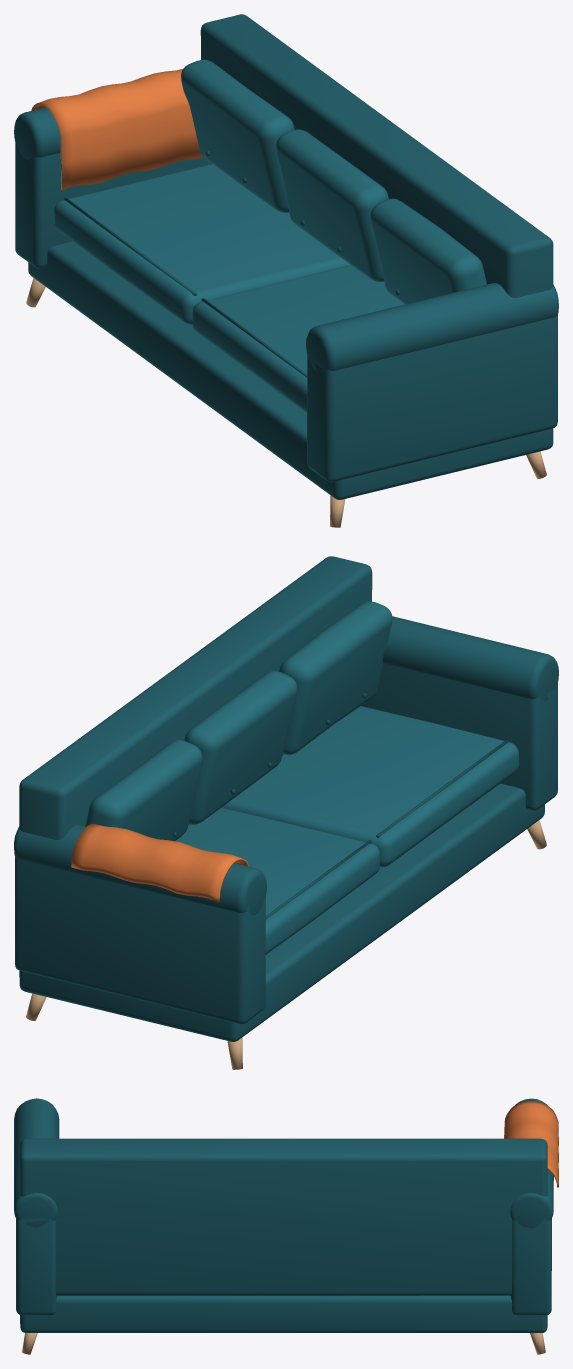
Rendered from living-sofa.glb.
3 renders of one model, top to bottom at view 1: azimuth 30°, elevation 25°; view 2: azimuth 150°, elevation 25°; view 3: azimuth 270°, elevation 25°, orthographic. The views are drawn at different scales.
Visible parts, largest first — view 1: Sofa__Frame, Sofa__SeatCushions, Sofa__BackCushions, Sofa__Throw, Sofa__Legs, Sofa__Piping; view 2: Sofa__Frame, Sofa__SeatCushions, Sofa__BackCushions, Sofa__Throw, Sofa__Legs, Sofa__Piping; view 3: Sofa__Frame, Sofa__Throw, Sofa__Legs.
Part boxes in pixels (x1,y1,x2,y2): Sofa__Frame: [14, 14, 558, 499]; Sofa__SeatCushions: [54, 164, 404, 412]; Sofa__BackCushions: [181, 59, 486, 304]; Sofa__Throw: [31, 69, 203, 190]; Sofa__Legs: [26, 278, 546, 527]; Sofa__Piping: [64, 197, 307, 377]; Sofa__Frame: [14, 556, 558, 1041]; Sofa__SeatCushions: [175, 706, 519, 954]; Sofa__BackCushions: [85, 601, 392, 841]; Sofa__Throw: [71, 823, 249, 902]; Sofa__Legs: [26, 820, 546, 1069]; Sofa__Piping: [265, 739, 508, 919]; Sofa__Frame: [14, 1098, 553, 1332]; Sofa__Throw: [504, 1100, 558, 1187]; Sofa__Legs: [22, 1333, 545, 1354].
Size of the model in its own units: 110 by 109 by 264.
